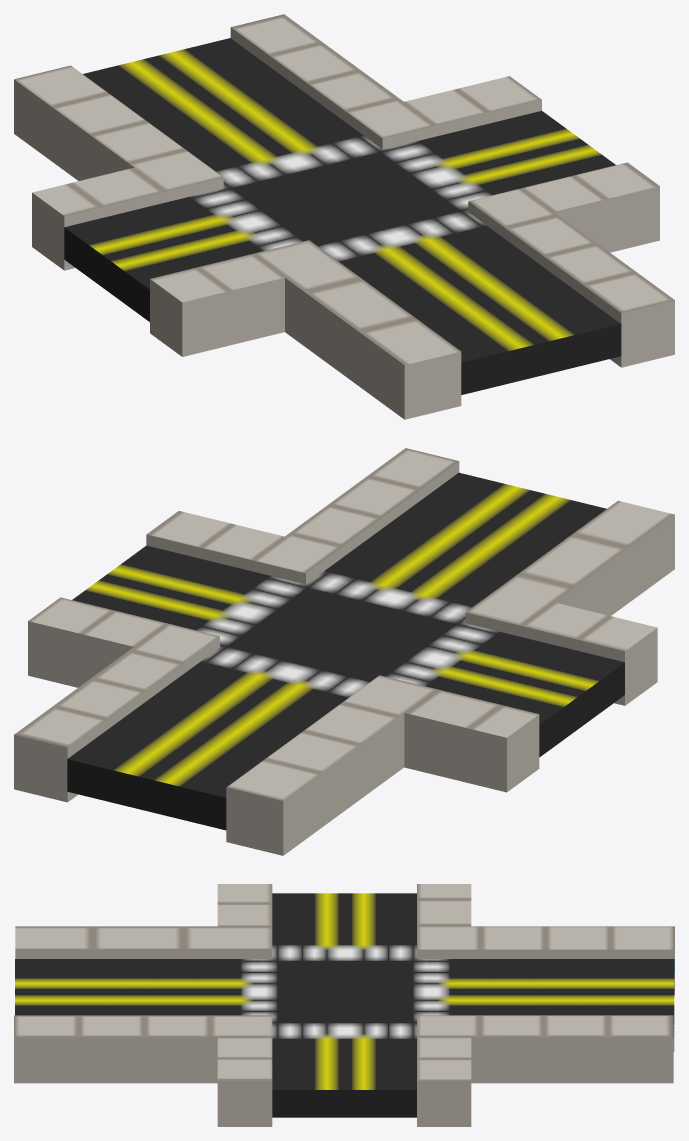
File: Street2.fbx
3 renders of one model, top to bottom at view 1: azimuth 30°, elevation 25°; view 2: azimuth 150°, elevation 25°; view 3: azimuth 270°, elevation 25°, orthographic. The views are drawn at different scales.
Visible parts, largest first — view 1: Cube.001; view 2: Cube.001; view 3: Cube.001.
Part boxes in pixels (bbox=[...]): Cube.001: bbox=[14, 14, 674, 419]; Cube.001: bbox=[14, 448, 674, 855]; Cube.001: bbox=[14, 884, 674, 1126].
Bounding box in the file's own units: 1248 × 136 × 1772.
